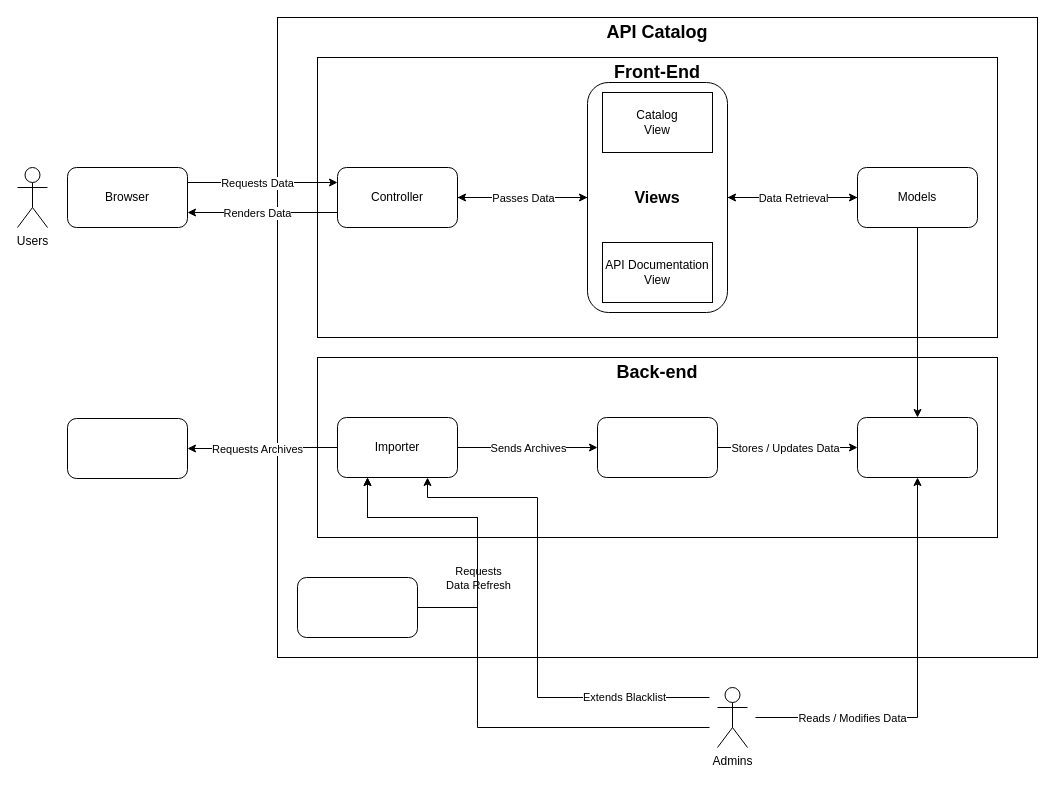
This 1055x786 diagram has some shape labels left out. The shapes that lost their labels are listed below. From the top down, each one's centre as x and y in pixels, then its label:
the point at 127,448: API Manager
the point at 657,447: Extractor / Processor
the point at 917,447: Storage
the point at 357,607: Scheduler
